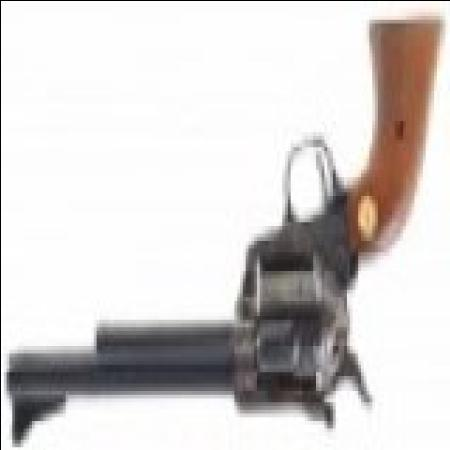Pistol: (9, 26, 441, 442)
